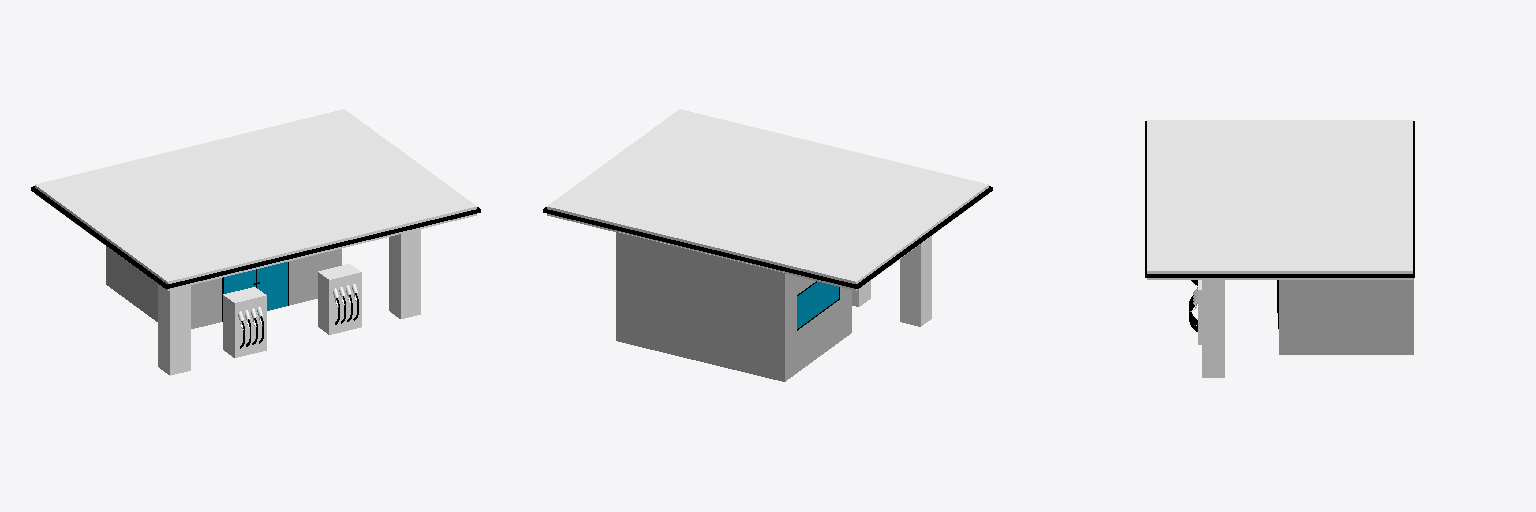
Rendered from tankstelle.obj.
3 views of the same model, side by side, from view 1: azimuth 30°, elevation 25°; view 2: azimuth 150°, elevation 25°; view 3: azimuth 270°, elevation 25° (orthographic).
Parts seen in each view (by area): view 1: Cube.001_Material.010, Cube_Material, Cube.002_Cube.002, Cube.003_Cube.003, Cube.016_Material.018, Cube.004_Material.023, Cube.034_Material.011, Cube.023_Material.001; view 2: Cube.001_Material.010, Cube_Material, Cube.002_Cube.002, Cube.034_Material.011, Cube.035_Material.012; view 3: Cube.001_Material.010, Cube_Material, Cube.003_Cube.003, Cube.034_Material.011.
Part boxes in pixels (x1,y1,x2,y2): Cube.001_Material.010: (35,109,476,290); Cube_Material: (106,246,341,328); Cube.002_Cube.002: (158,284,190,375); Cube.003_Cube.003: (389,229,420,318); Cube.016_Material.018: (223,287,266,357); Cube.004_Material.023: (318,264,361,334); Cube.034_Material.011: (31,186,480,288); Cube.023_Material.001: (224,262,287,310); Cube.001_Material.010: (547,109,988,290); Cube_Material: (616,232,851,381); Cube.002_Cube.002: (900,236,931,326); Cube.034_Material.011: (543,186,992,288); Cube.035_Material.012: (797,282,838,328); Cube.001_Material.010: (1147,120,1412,279); Cube_Material: (1279,278,1413,354); Cube.003_Cube.003: (1202,280,1224,377); Cube.034_Material.011: (1145,121,1414,277).
Size of the model in its own units: 6.1 by 2.24 by 4.54.